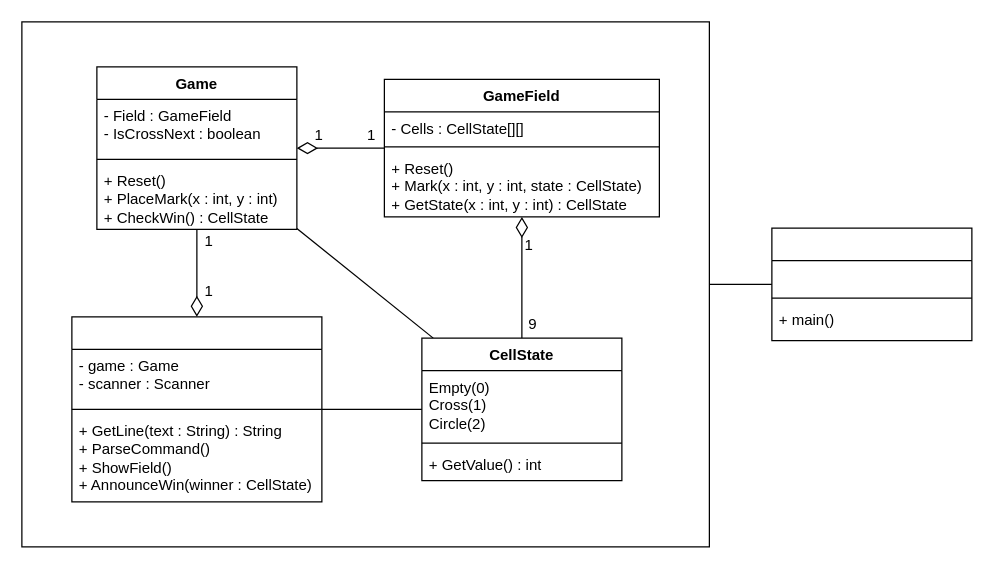
The diagram is 994 pixels wide and 569 high, and some of its shapes have lost their labels. The box of each missing label's shape, as (x1, y1, x2, y2) in pixels:
App: (771, 227, 972, 341)
UI: (71, 316, 322, 502)
